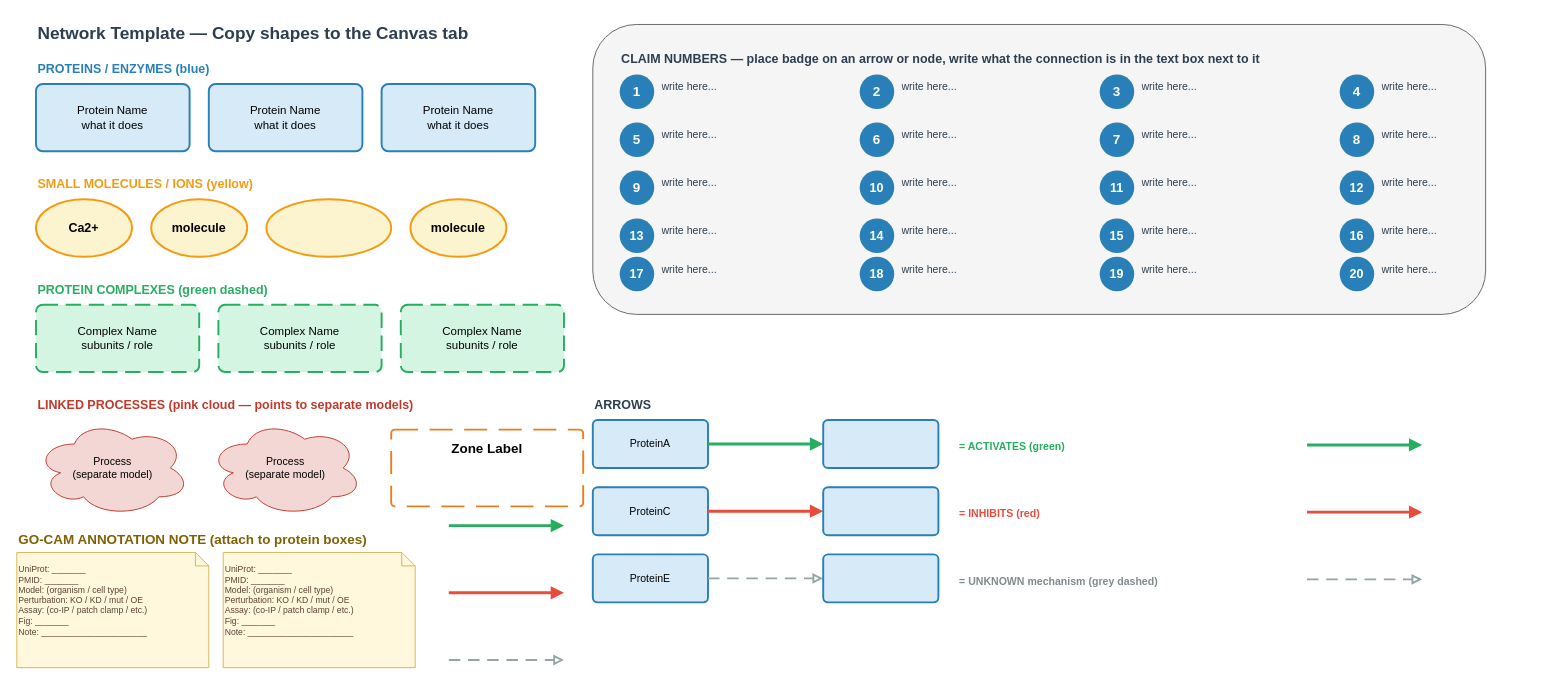
Some shapes in this 1560 by 684 pixel diagram are drawn without their labels. The centre of each missing label's shape, as x and y in pixels:
PI(4,5)P2: pixel 328 227
ProteinB: pixel 880 443
ProteinD: pixel 880 511
ProteinF: pixel 880 578
